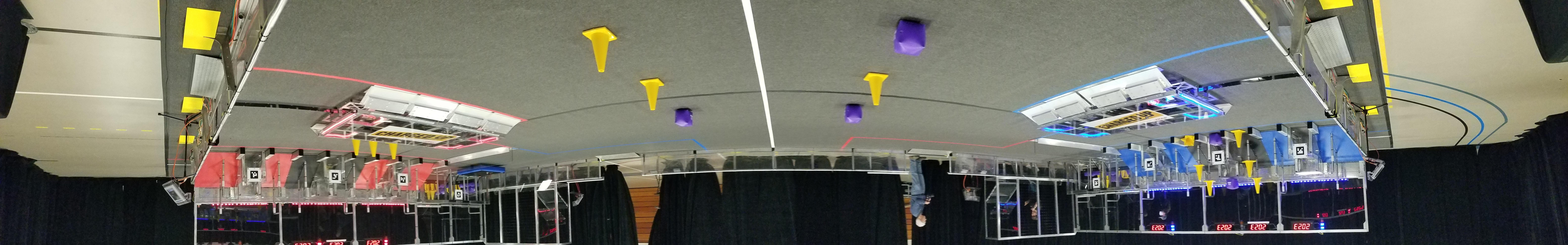cone: (945, 168, 992, 226), (900, 132, 932, 169), (681, 140, 707, 179), (1205, 89, 1225, 119), (308, 65, 329, 93), (359, 63, 376, 89), (350, 49, 371, 68), (1167, 84, 1182, 110), (372, 96, 391, 115), (303, 51, 319, 72), (1188, 84, 1203, 106), (1127, 46, 1146, 63), (322, 99, 339, 117)
cube: (640, 183, 677, 225), (704, 120, 734, 142), (871, 116, 898, 137), (328, 51, 348, 70), (344, 98, 361, 116)
robot: (1059, 61, 1114, 85)
